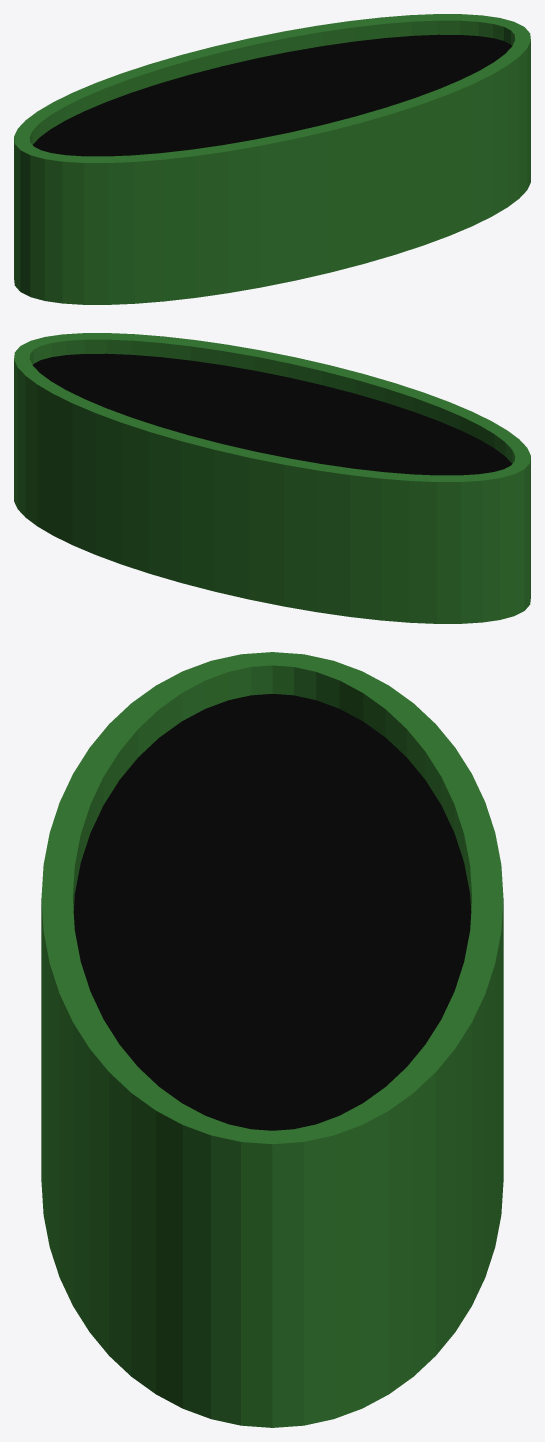
File: serUSV.glb
3 renders of one model, top to bottom at view 1: azimuth 30°, elevation 25°; view 2: azimuth 150°, elevation 25°; view 3: azimuth 270°, elevation 25°, orthographic. The views are drawn at different scales.
Visible parts, largest first — view 1: serUSV; view 2: serUSV; view 3: serUSV.
Boxes of the visible parts, x1,y1,x2,y2 form: serUSV: (14, 14, 530, 304); serUSV: (14, 333, 530, 623); serUSV: (41, 652, 503, 1427).
Bounding box in the file's own units: 0.0221 × 0.00594 × 0.00876.
